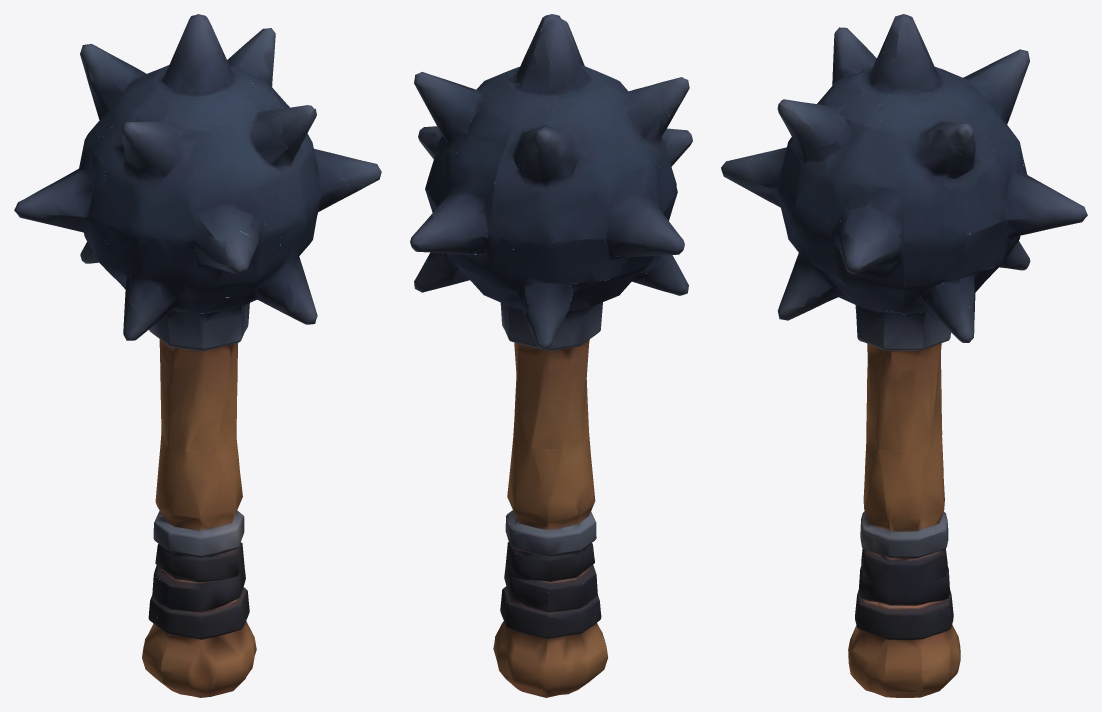
The model's file is Arm_spiked_mace-IRmWhO4T.glb.
The picture shows the model from 3 angles, left to right: view 1: azimuth 30°, elevation 25°; view 2: azimuth 150°, elevation 25°; view 3: azimuth 270°, elevation 25°; orthographic projection.
Parts seen in each view (by area): view 1: Arm_spiked_mace; view 2: Arm_spiked_mace; view 3: Arm_spiked_mace.
Boxes of the visible parts, <box> form: Arm_spiked_mace: <box>14,14,381,697</box>; Arm_spiked_mace: <box>410,14,692,697</box>; Arm_spiked_mace: <box>721,14,1087,697</box>.
Bounding box in the file's own units: 0.6612 × 1.35 × 0.6643.
1 material, 1 textured.
